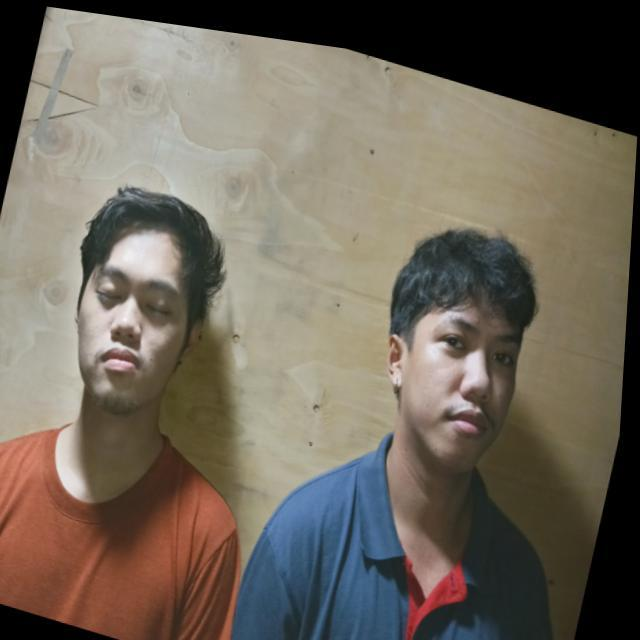Nonhelmet: (383, 225, 540, 474), (71, 183, 227, 415)
